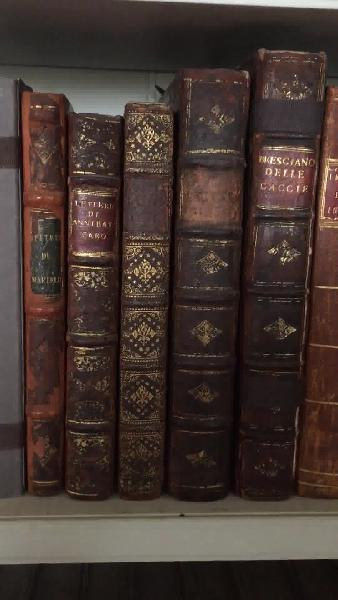Aa6-28: (23, 91, 69, 505)
Aa6-29: (65, 99, 116, 499)
Aa6-30: (123, 97, 174, 498)
Aa6-31: (172, 68, 239, 504)
Aa6-32: (241, 45, 318, 504)
